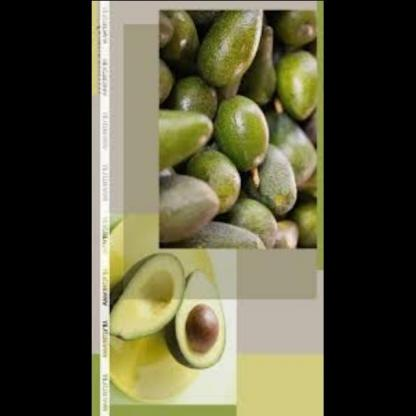avocado: (107, 250, 179, 355), (178, 260, 235, 375), (200, 17, 270, 88), (221, 96, 273, 191), (151, 97, 224, 163), (158, 174, 228, 228), (258, 145, 310, 216), (271, 43, 323, 113), (197, 214, 276, 254), (280, 104, 319, 185)
